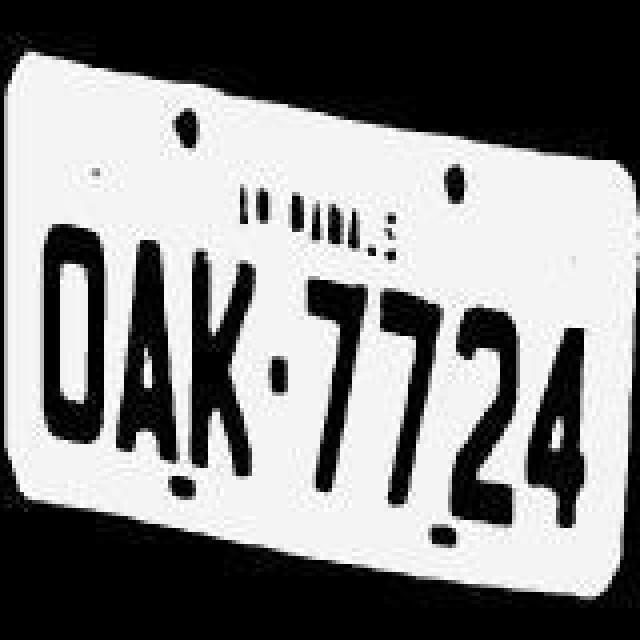2: (448, 282, 520, 534)
4: (526, 322, 602, 542)
7: (370, 268, 446, 516), (300, 266, 372, 502)
A: (112, 230, 184, 466)
K: (182, 232, 258, 480)
O: (36, 220, 108, 452)
